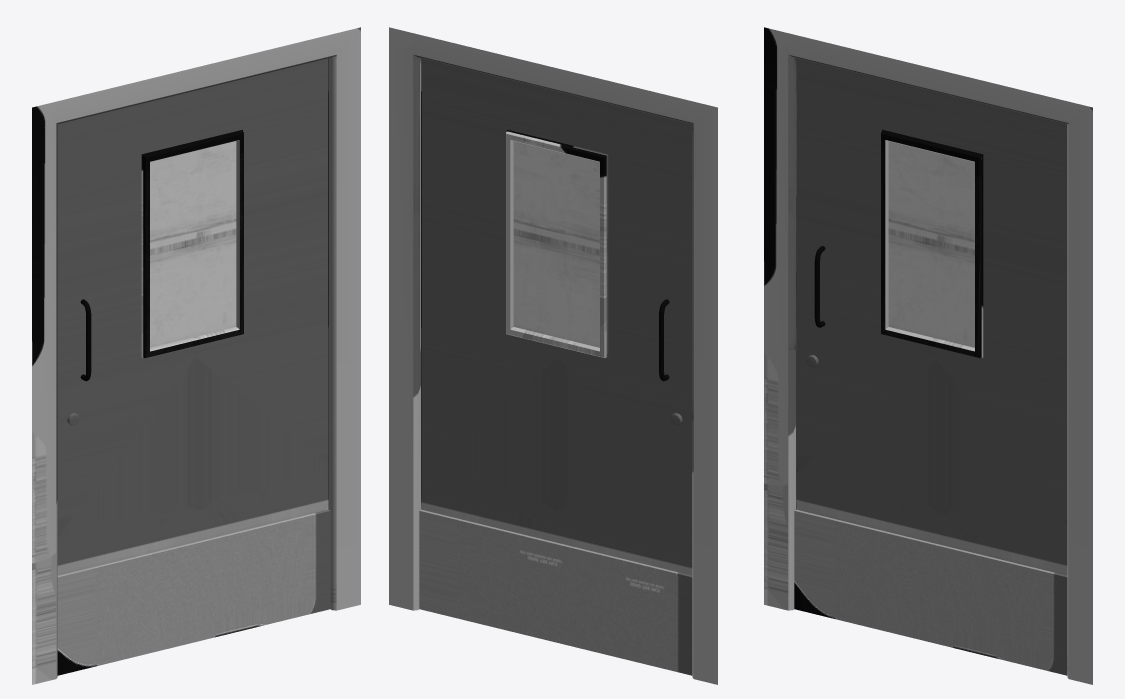
File: storage-door.glb
3 renders of one model, left to right at view 1: azimuth 30°, elevation 25°; view 2: azimuth 150°, elevation 25°; view 3: azimuth 330°, elevation 25°, orthographic.
Visible parts, largest first — view 1: defaultMaterial (×3); view 2: defaultMaterial (×3); view 3: defaultMaterial (×3).
Part boxes in pixels (<box>): defaultMaterial (×3): <box>32,27,360,684</box>; defaultMaterial (×3): <box>389,27,717,684</box>; defaultMaterial (×3): <box>764,27,1092,684</box>.
Bounding box in the file's own units: 179 × 300 × 22.46.
Materials: 1 (1 with a texture image).
